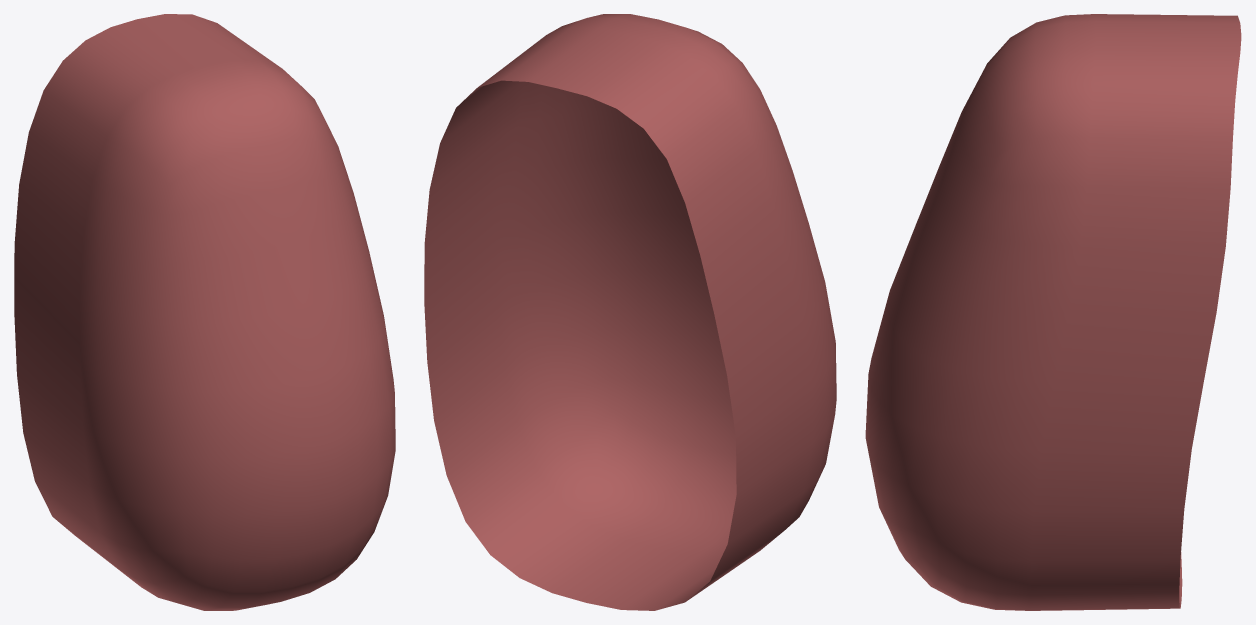
Rendered from Nose01.fbx.
3 views of the same model, side by side, from view 1: azimuth 30°, elevation 25°; view 2: azimuth 150°, elevation 25°; view 3: azimuth 270°, elevation 25° (orthographic). The views are drawn at different scales.
Visible parts, largest first — view 1: Nose2; view 2: Nose2; view 3: Nose2.
Boxes of the visible parts, x1,y1,x2,y2 form: Nose2: (14, 14, 395, 610); Nose2: (424, 14, 836, 610); Nose2: (865, 14, 1241, 610).
Size of the model in its own units: 1.84 by 3.02 by 1.87.
